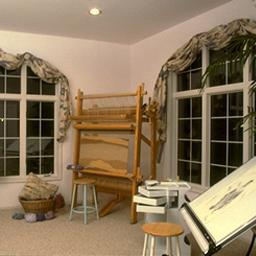Otro Obstaculo: (13, 178, 63, 228)
Ventana: (169, 61, 230, 183), (4, 61, 56, 176)
